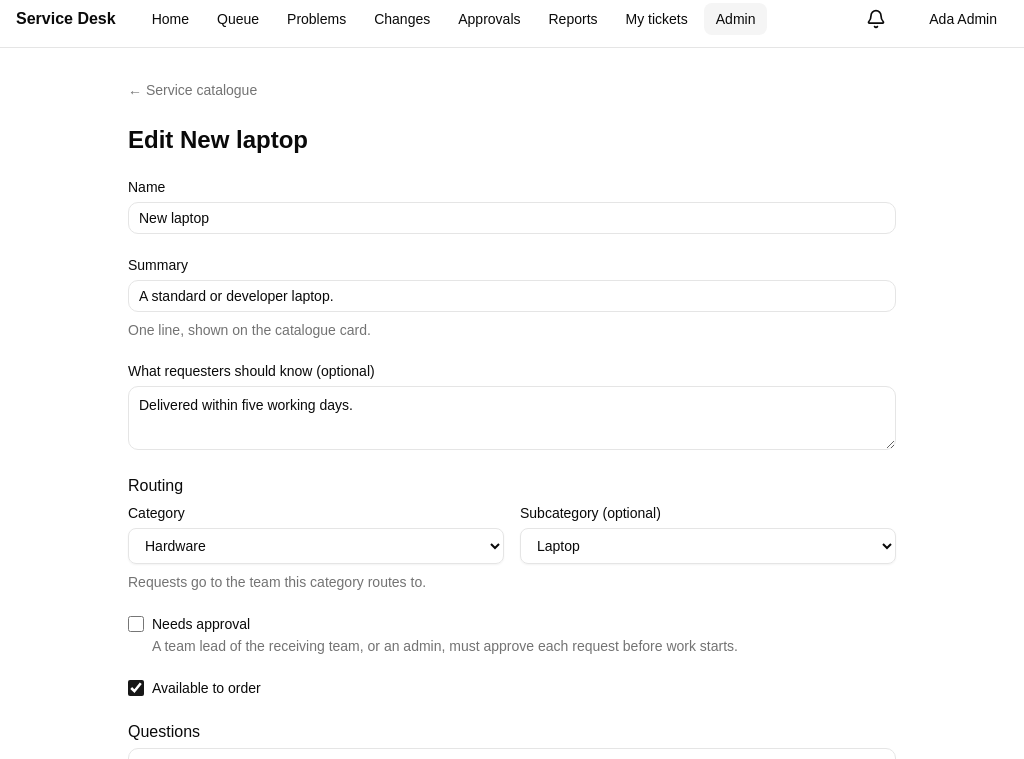
it: catalogue administration › edits an item without losing its subcategory, and can withdraw it
Expected: the heading "Edit New laptop" is shown, x1=128 y1=126 x2=308 y2=153
Expected: the dropdown labelled "Subcategory (optional)" shows "Laptop", x1=520 y1=528 x2=896 y2=564
Click the checkbox labelled "Available to order".
click(136, 688)  # box x1=128 y1=680 x2=144 y2=696
(page scrolled)
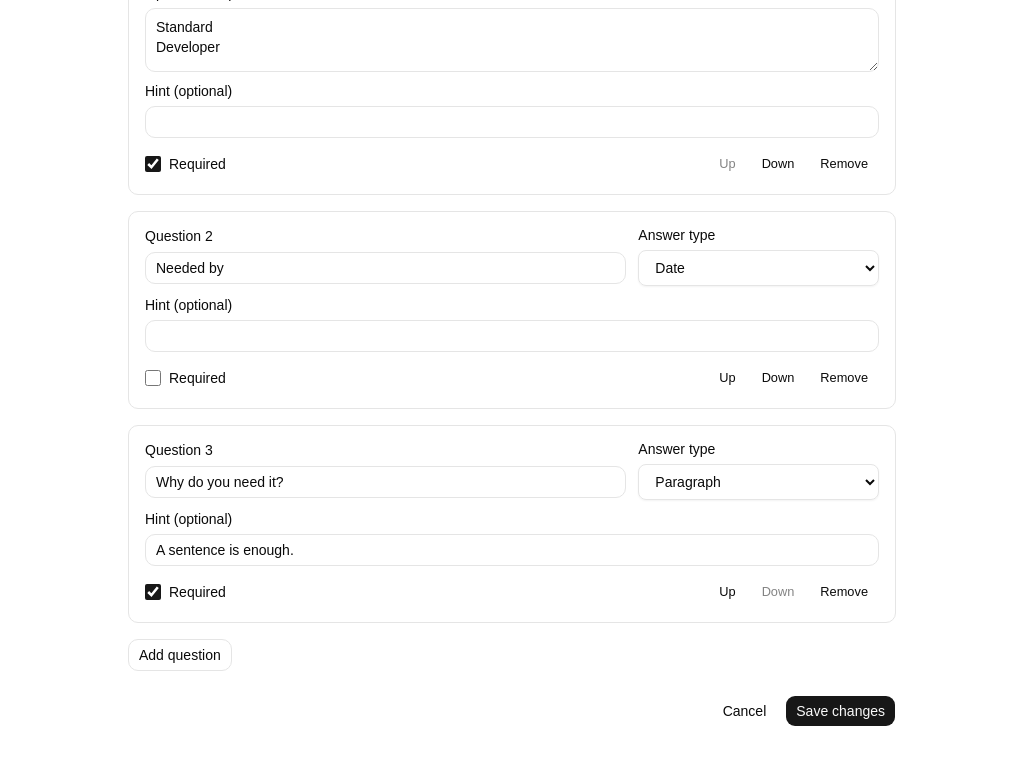
Click the button with aria-label "Remove question 2".
click(844, 378)  # box x1=809 y1=364 x2=879 y2=392
(page scrolled)
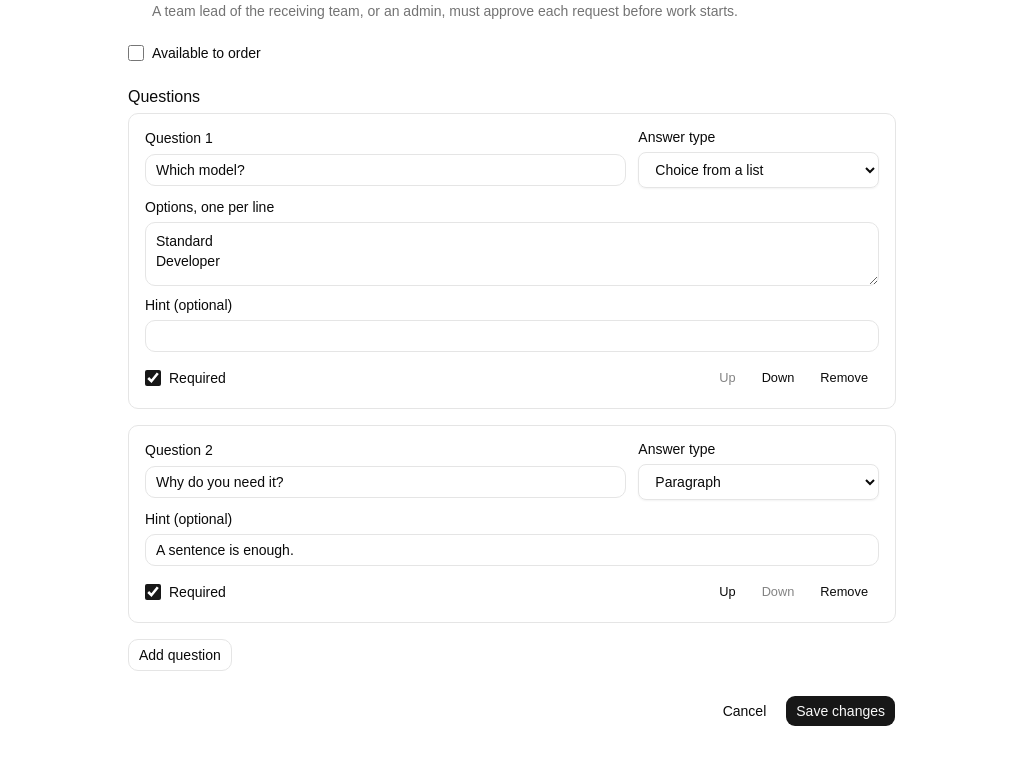
Click the button "Save changes".
click(841, 711)  # box x1=785 y1=695 x2=896 y2=727
(page scrolled)
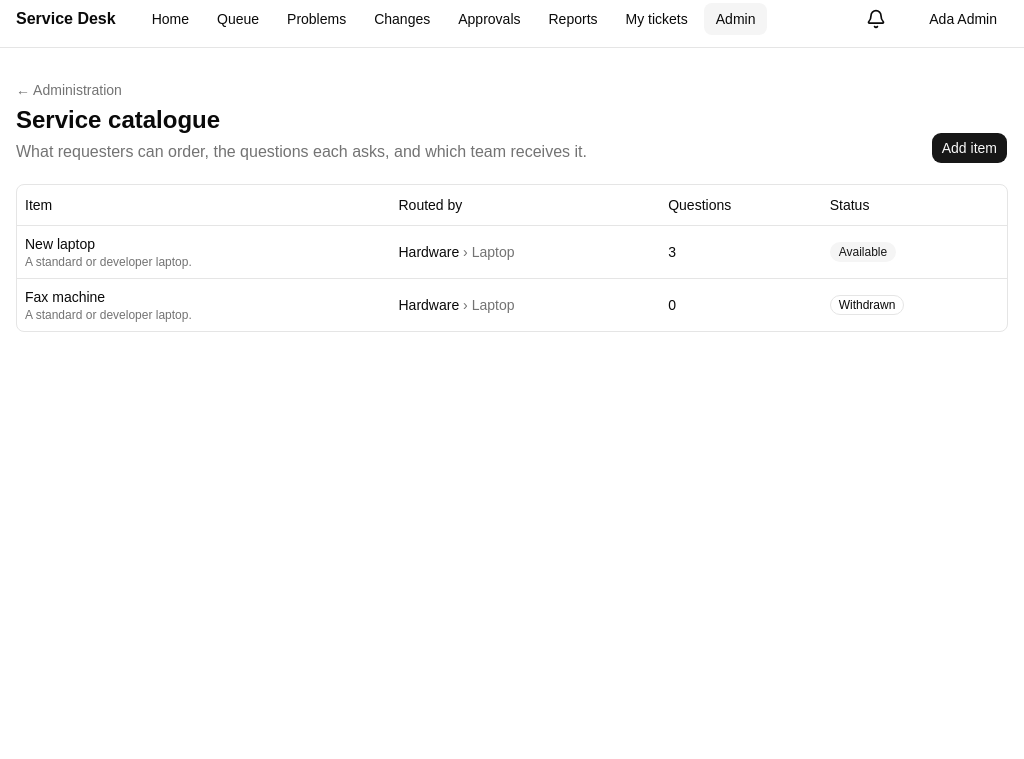
Now the heading "Service catalogue" is shown, box x1=16 y1=106 x2=220 y2=133
